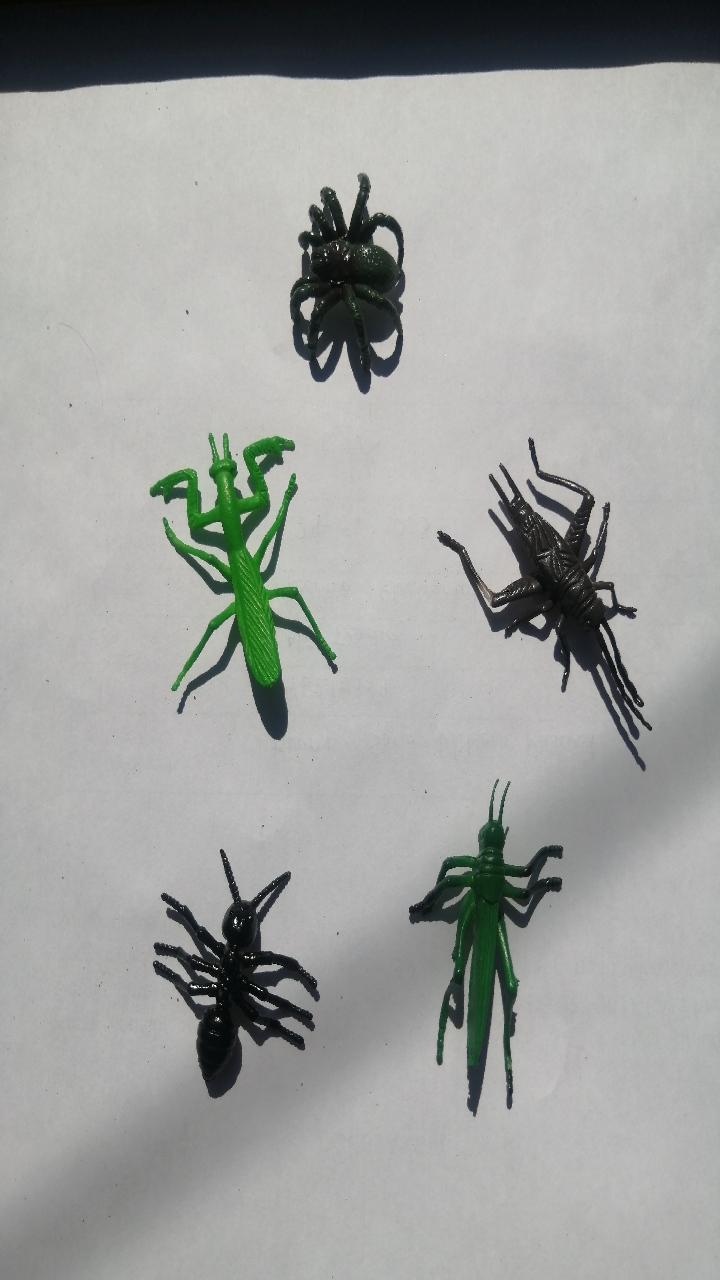intruso: (81, 382, 363, 769), (412, 386, 666, 771), (112, 795, 334, 1148), (391, 771, 586, 1115), (243, 139, 455, 388)
